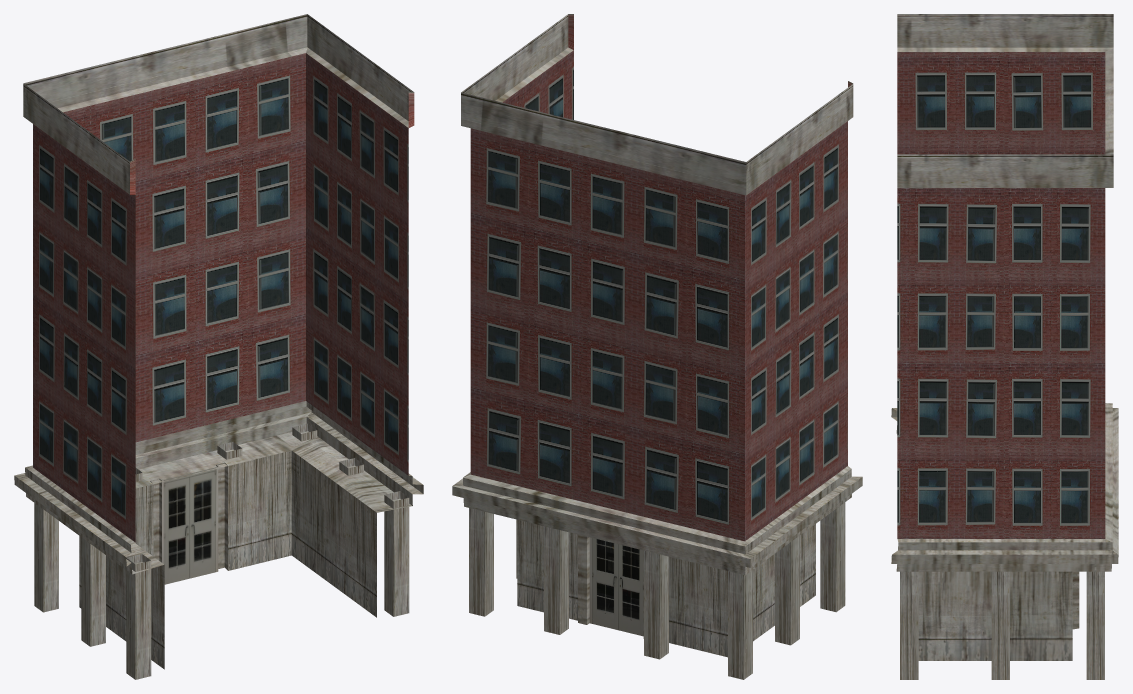
File: Background_Building_8.fbx
The picture shows the model from 3 angles, left to right: view 1: azimuth 30°, elevation 25°; view 2: azimuth 150°, elevation 25°; view 3: azimuth 270°, elevation 25°; orthographic projection.
Parts seen in each view (by area): view 1: Background_Building_8; view 2: Background_Building_8; view 3: Background_Building_8.
Part boxes in pixels (left/top/right/bottom): Background_Building_8: left=14, top=14, right=423, bottom=679; Background_Building_8: left=452, top=14, right=862, bottom=679; Background_Building_8: left=891, top=14, right=1118, bottom=679.
Bounding box in the file's own units: 1040 × 1747 × 680.
